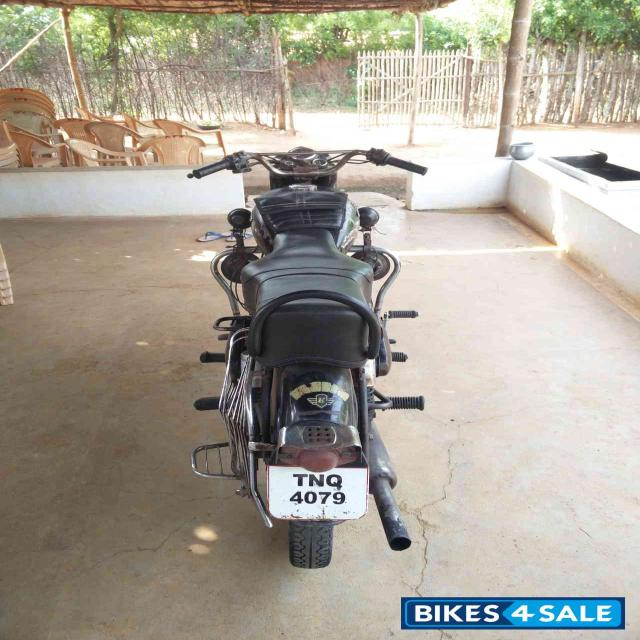number plate: (265, 464, 369, 522)
